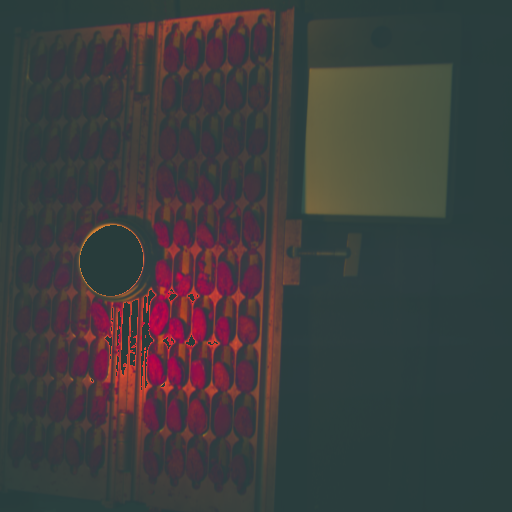bueno: (90, 301, 110, 333), (150, 300, 168, 334), (243, 212, 262, 241), (197, 176, 214, 202), (66, 438, 83, 464), (184, 37, 199, 66), (153, 222, 170, 247), (91, 44, 105, 73), (249, 129, 265, 153), (221, 178, 239, 199), (169, 317, 185, 340), (62, 179, 76, 202), (78, 184, 94, 204), (178, 179, 193, 200), (211, 463, 226, 483), (42, 180, 55, 198), (17, 227, 32, 242), (24, 141, 37, 157), (97, 211, 106, 222)
malo: (240, 264, 260, 297), (217, 263, 237, 296), (154, 259, 171, 294), (213, 405, 232, 436), (143, 396, 160, 430), (192, 305, 208, 341), (228, 32, 246, 63), (166, 357, 185, 386), (197, 261, 213, 295), (52, 299, 68, 333), (92, 348, 108, 382), (165, 399, 182, 431), (147, 353, 163, 384), (91, 396, 108, 425), (16, 253, 32, 283), (214, 314, 231, 342), (189, 360, 206, 388), (48, 50, 64, 77), (207, 40, 223, 66), (72, 351, 88, 376), (32, 308, 48, 332), (37, 261, 51, 287), (70, 393, 83, 421), (56, 263, 71, 287), (52, 349, 66, 372), (66, 135, 78, 160), (203, 131, 216, 154), (74, 51, 85, 76), (29, 399, 45, 413)
parcial: (187, 400, 209, 436), (234, 408, 258, 436), (157, 165, 176, 199), (220, 212, 238, 246), (238, 313, 257, 344), (100, 129, 119, 159), (96, 172, 115, 202), (251, 24, 269, 55), (81, 86, 100, 115), (163, 77, 180, 109), (184, 79, 200, 113), (188, 450, 206, 480), (232, 456, 252, 483), (212, 362, 230, 391), (225, 81, 244, 108), (238, 362, 256, 390), (47, 393, 66, 419), (160, 128, 177, 157), (244, 174, 265, 197), (108, 47, 126, 73), (204, 85, 221, 112), (174, 220, 191, 247), (164, 450, 183, 474), (6, 437, 25, 460), (225, 128, 240, 156), (103, 91, 121, 114), (179, 131, 195, 156), (196, 225, 214, 247), (30, 53, 43, 82), (166, 46, 181, 71), (176, 272, 193, 294), (11, 349, 28, 371), (143, 454, 162, 473), (249, 84, 265, 106), (49, 437, 63, 462), (45, 93, 60, 116), (64, 91, 78, 114), (43, 137, 59, 157), (81, 137, 96, 158), (29, 93, 41, 118), (13, 308, 28, 328), (87, 450, 103, 467), (38, 224, 52, 243), (27, 443, 42, 460), (9, 394, 25, 409), (32, 356, 46, 373), (75, 226, 89, 242), (59, 224, 69, 242)
